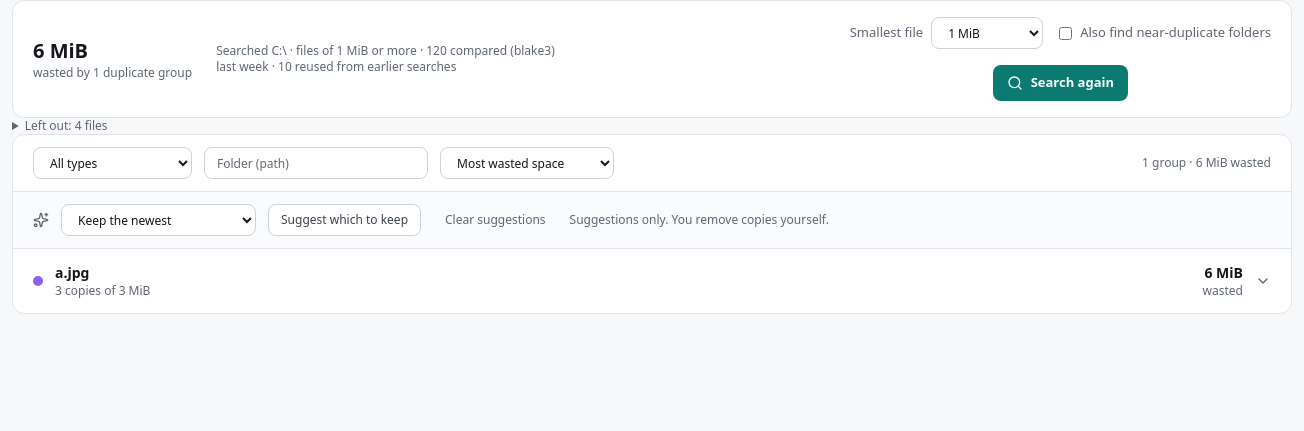
Test: DuplicatesView › lists what was left out, including the files themselves for failures
Step 1. Click the heading "Left out: 4 files" → (66, 126), box [25,117,108,134]
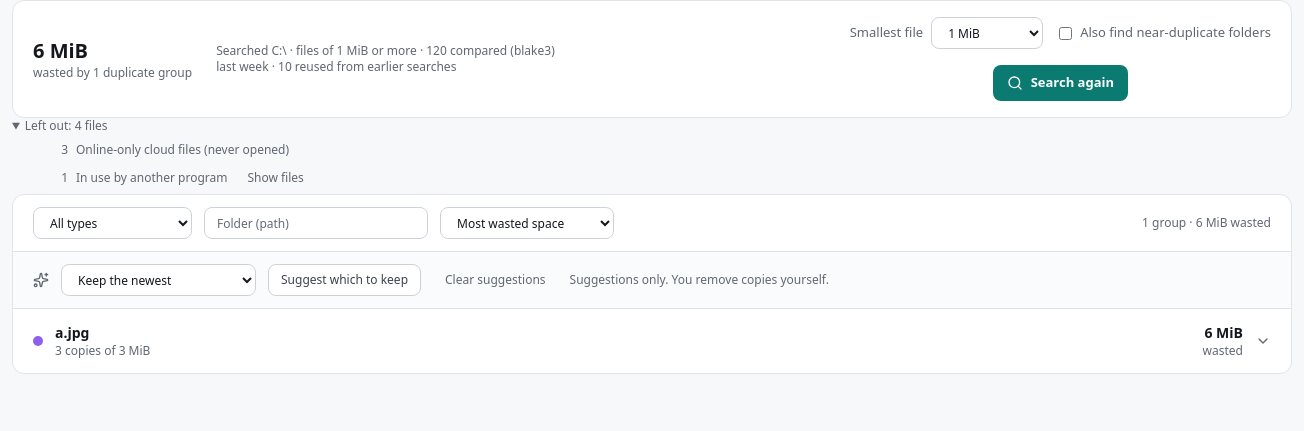
Expected: the text "Online-only cloud files (never opened)" is shown, [76,142,289,158]
Step 2. Click the button "Show files" → (276, 178), box [236,162,316,194]
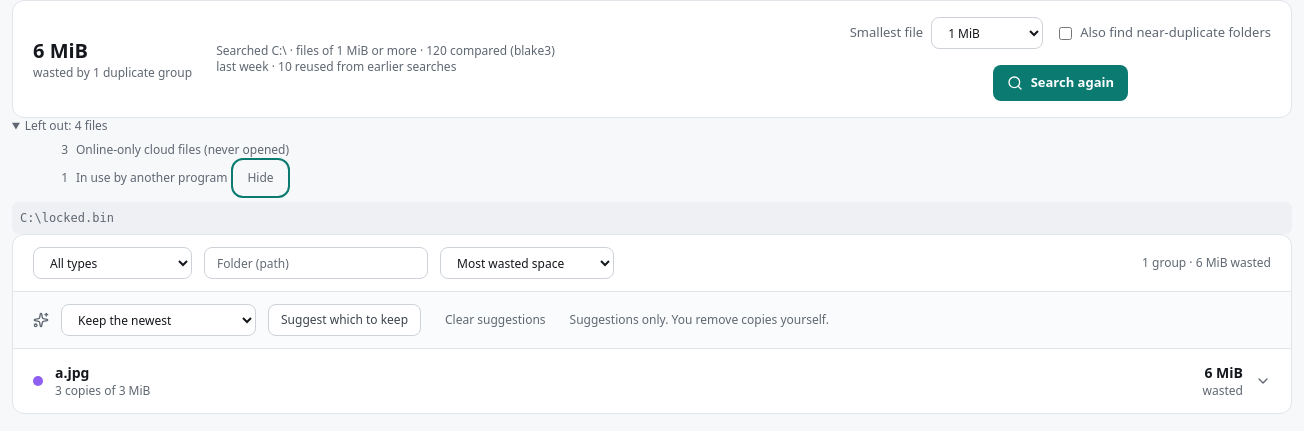
Expected: the list item "C:\\locked.bin" is shown, [20,211,114,225]
